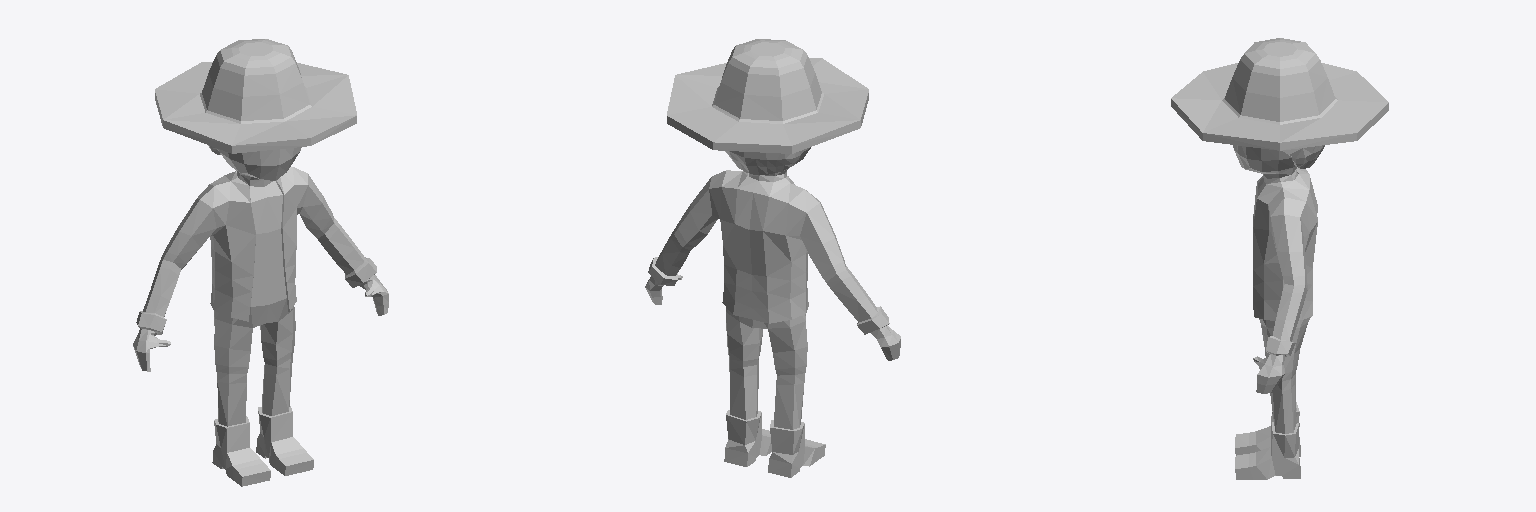
File: characterNew.obj
3 views of the same model, side by side, from view 1: azimuth 30°, elevation 25°; view 2: azimuth 150°, elevation 25°; view 3: azimuth 270°, elevation 25° (orthographic).
Parts seen in each view (by area): view 1: Character_Cube; view 2: Character_Cube; view 3: Character_Cube.
Boxes of the visible parts, box(x1,y1,x2,y2) form: Character_Cube: box(133, 39, 388, 486); Character_Cube: box(645, 39, 900, 477); Character_Cube: box(1171, 38, 1388, 479).
Size of the model in its own units: 1.17 by 1.84 by 0.8816.